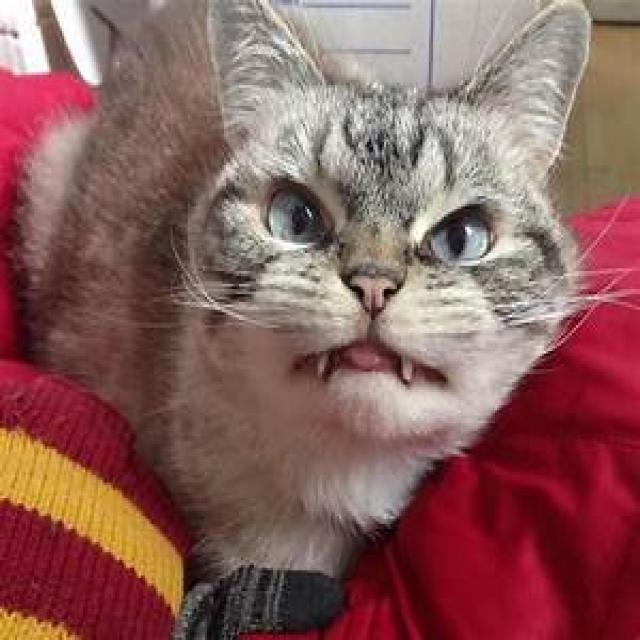animal: (8, 0, 638, 594)
